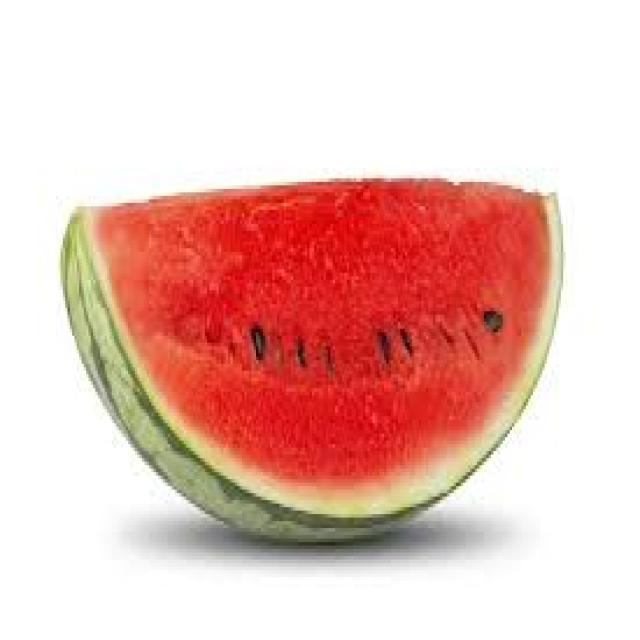watermelon: (58, 172, 563, 546)
